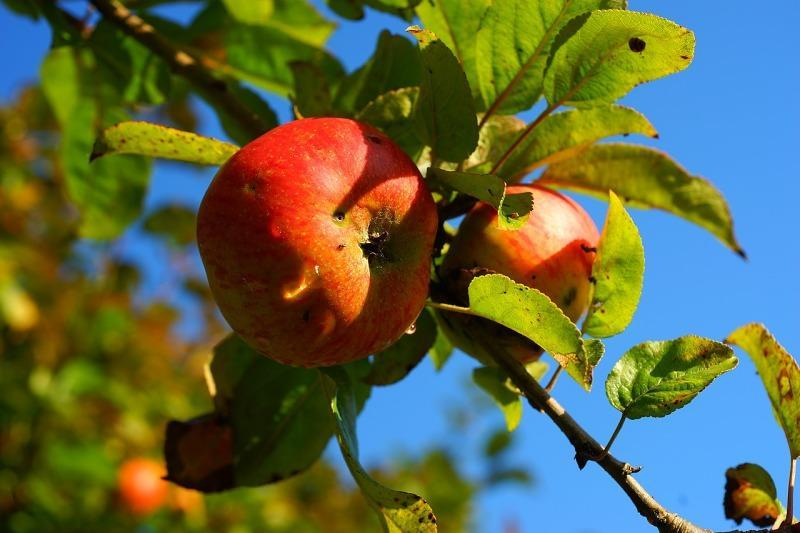apple: (196, 116, 439, 369), (449, 182, 601, 322)
